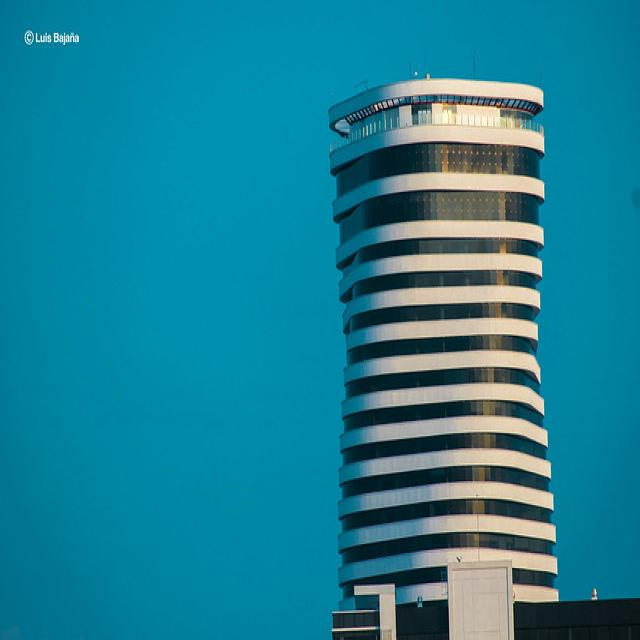building: (320, 73, 562, 640)
